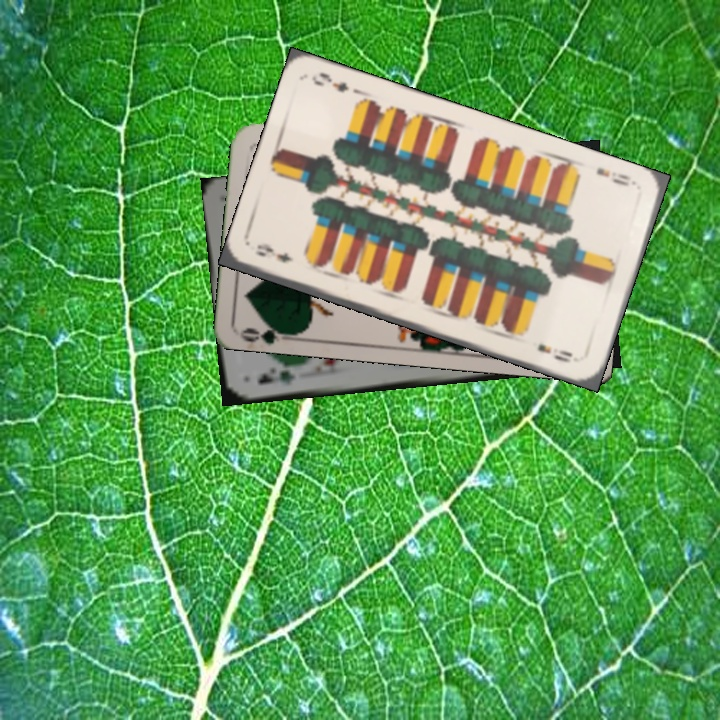E9: (592, 163, 639, 191), (252, 240, 297, 266)
GK: (254, 365, 298, 388)
GO: (238, 316, 297, 345)
